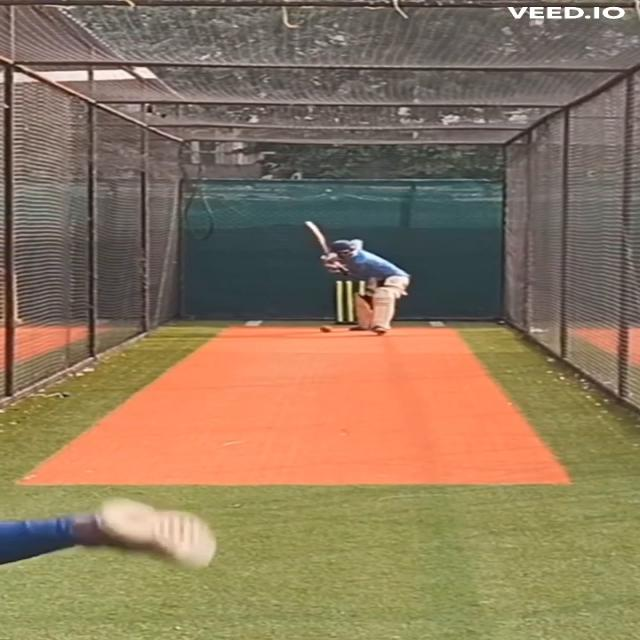ball: (320, 325, 333, 334)
stump: (334, 280, 367, 325)
